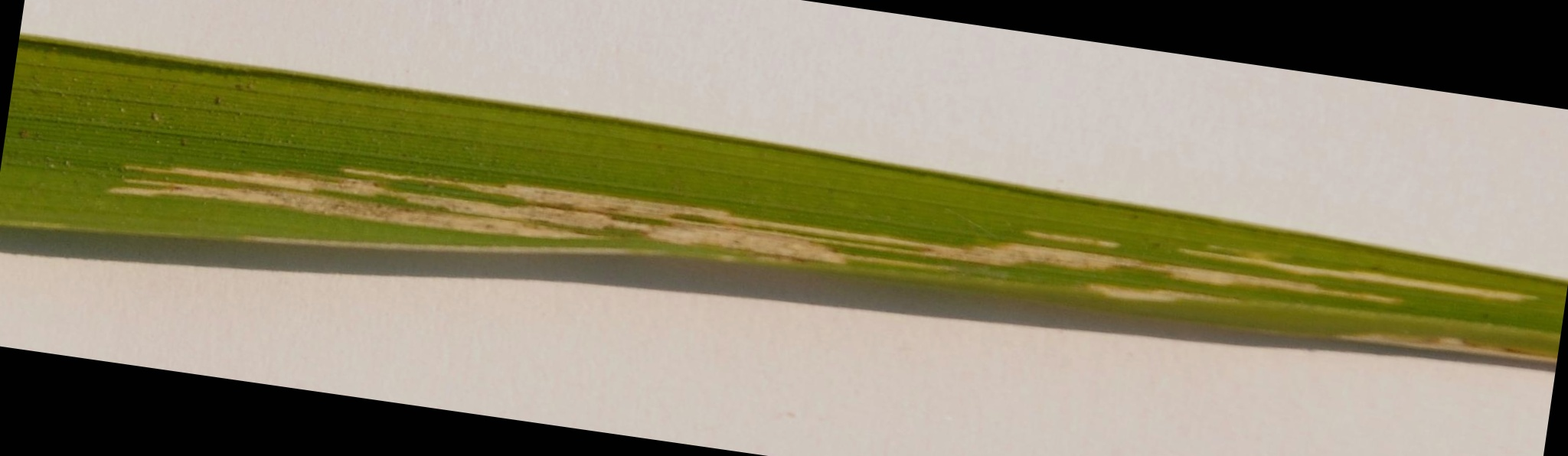Leaf_Blast: (78, 178, 1550, 330)
